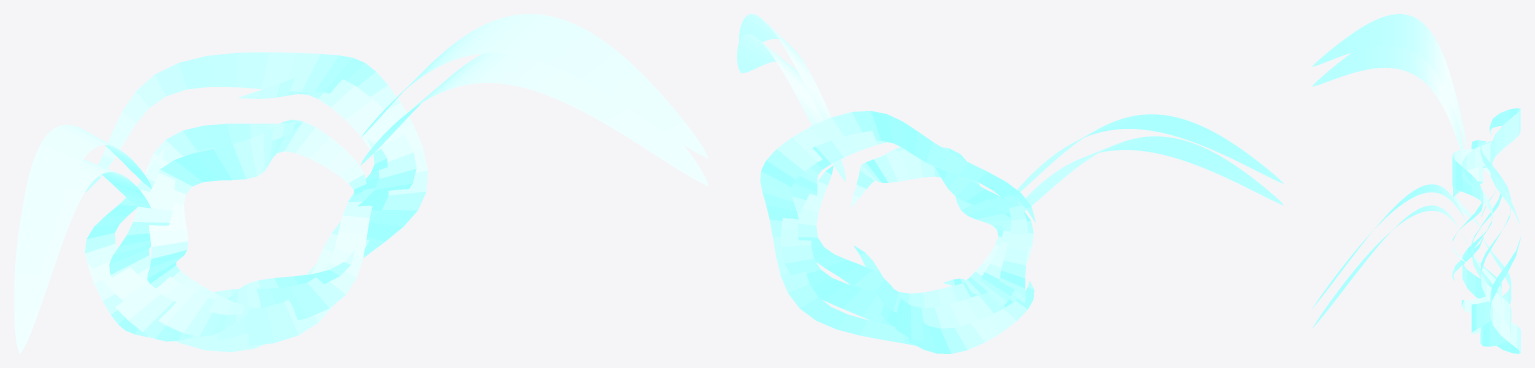
Rendered from charge.glb.
3 renders of one model, left to right at view 1: azimuth 30°, elevation 25°; view 2: azimuth 150°, elevation 25°; view 3: azimuth 270°, elevation 25°, orthographic. The views are drawn at different scales.
Parts seen in each view (by area): view 1: charge; view 2: charge; view 3: charge.
Part boxes in pixels (left/top/right/bottom): charge: left=14, top=14, right=708, bottom=353; charge: left=737, top=14, right=1283, bottom=353; charge: left=1312, top=14, right=1520, bottom=353.
Bounding box in the file's own units: 0.9214 × 0.404 × 0.3349.
